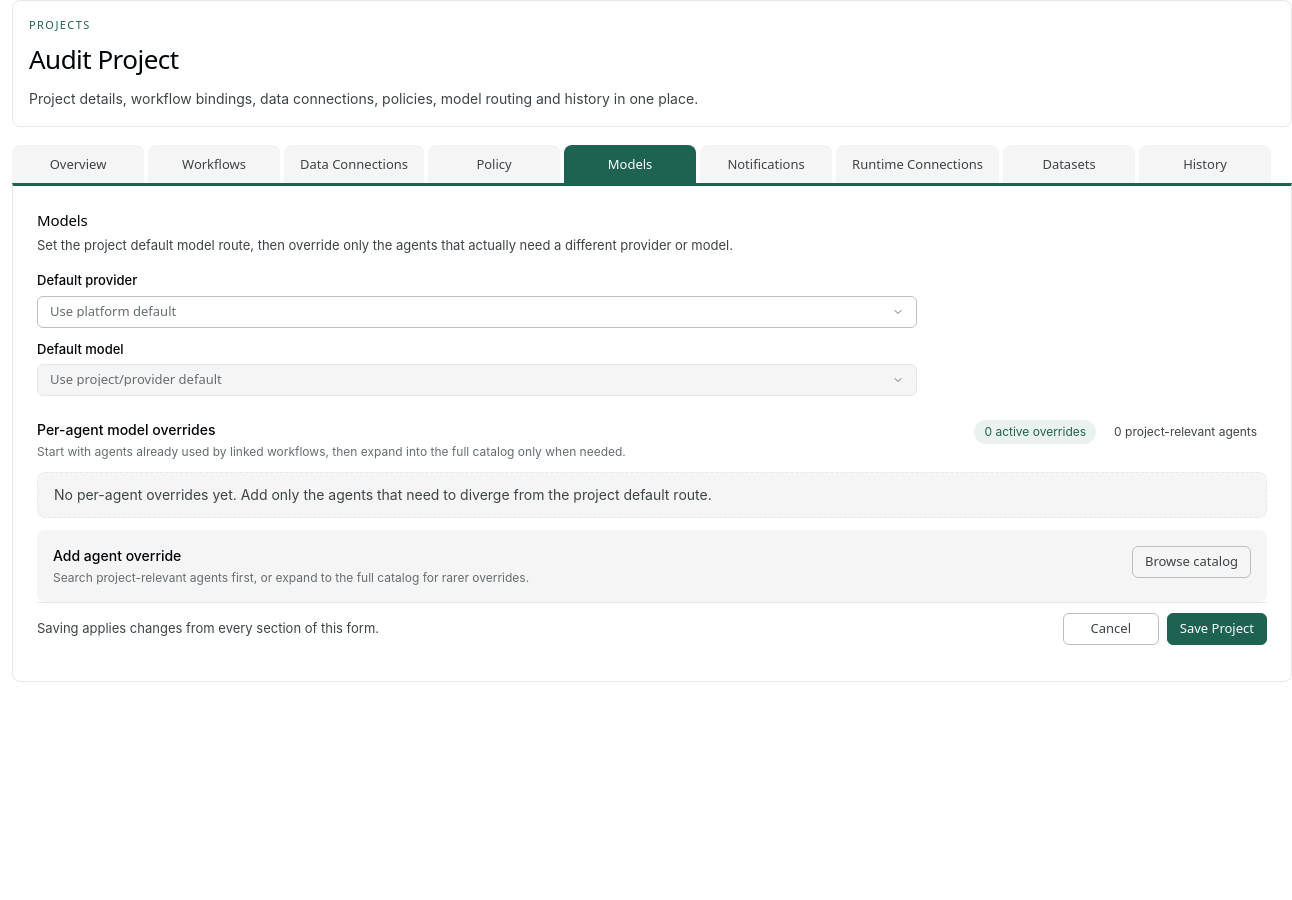
ProjectsDetailPage › renders friendly model labels while persisting exact model IDs
Step 1. Click the dropdown named "Default provider" → (113, 311), box [37,296,917,328]
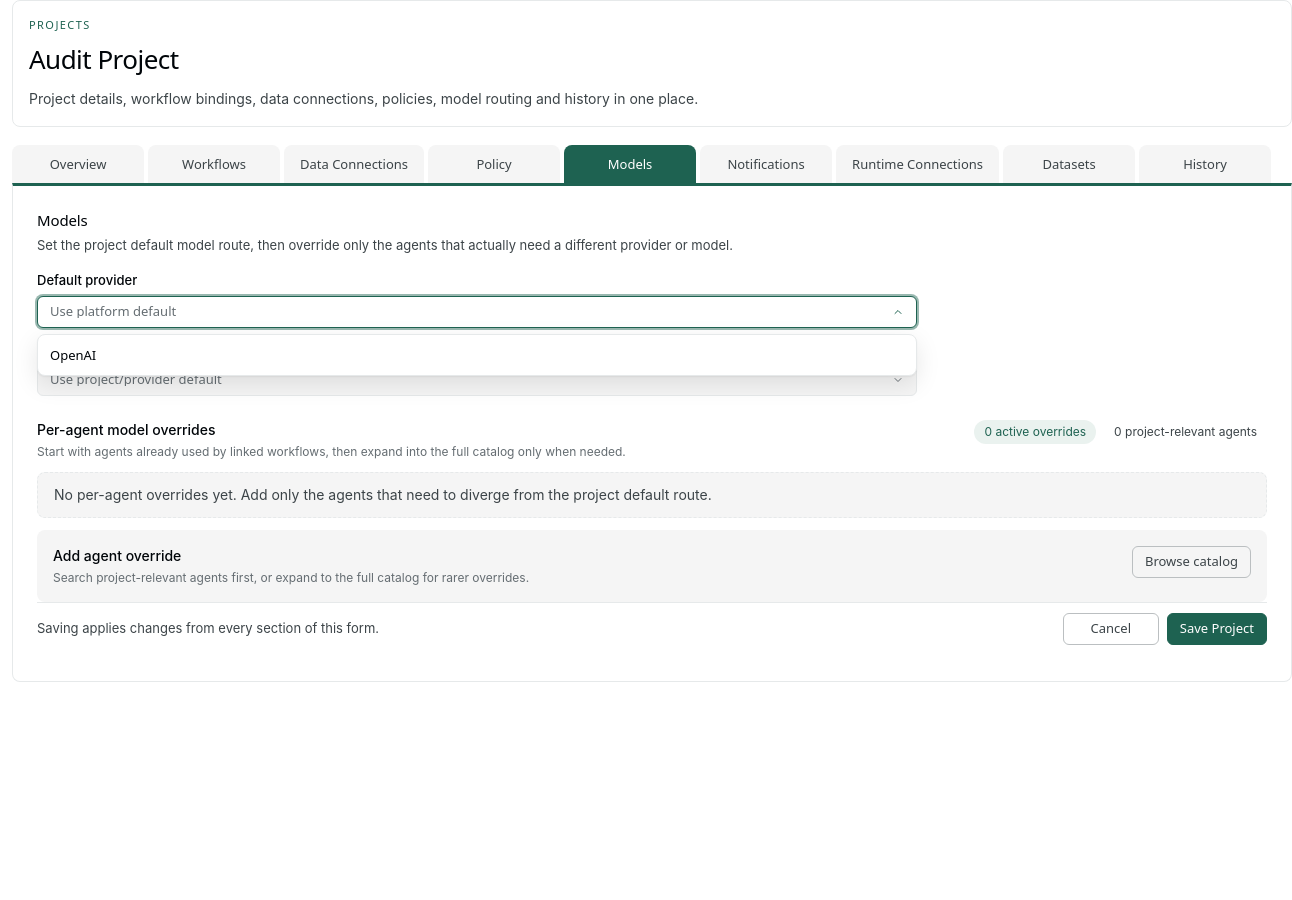
Step 2. Click the option "OpenAI" → (73, 355), box [42,339,912,371]
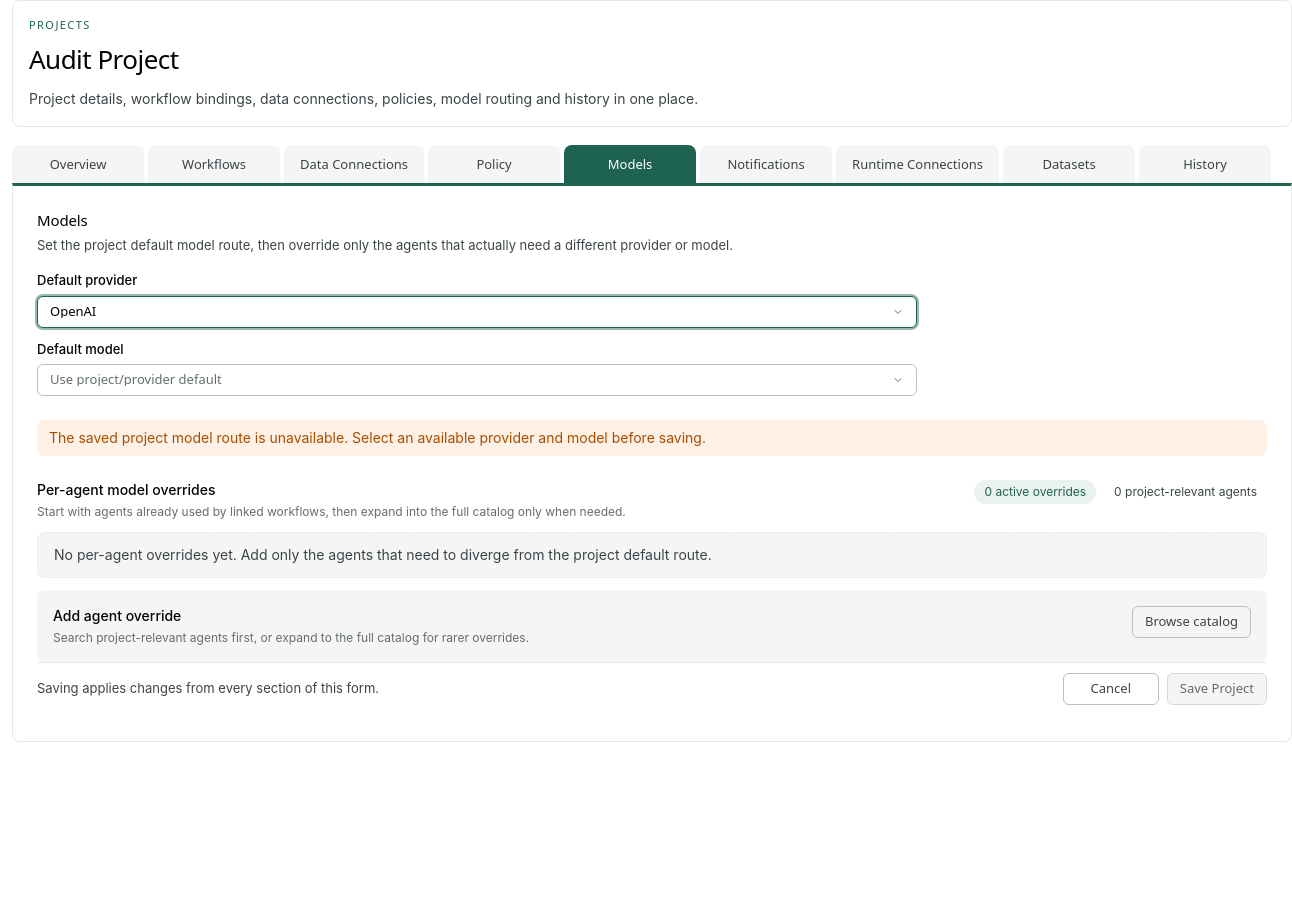
Step 3. Click the dropdown named "Default model" → (136, 379), box [37,364,917,396]
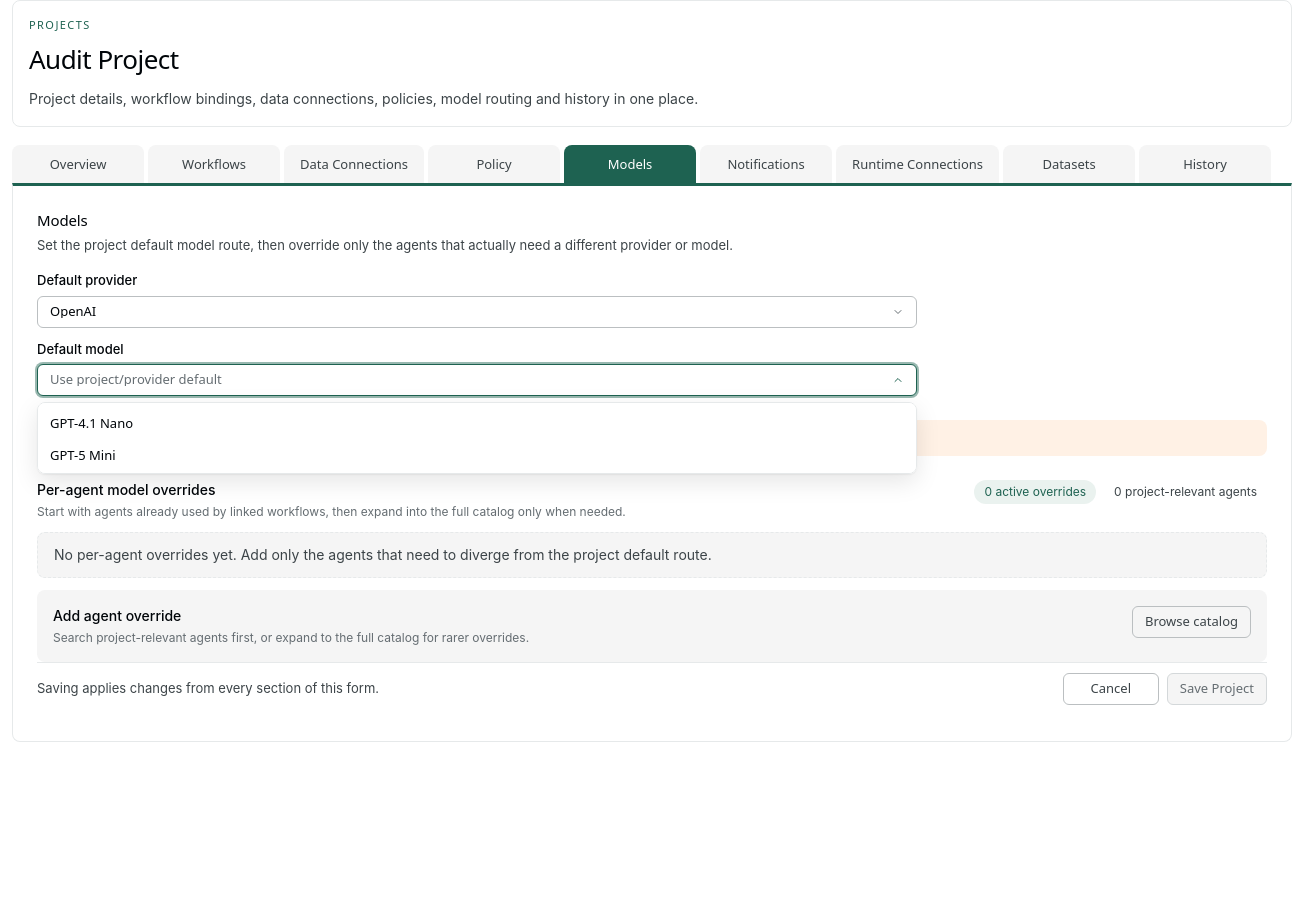
Check: the option "GPT-4.1 Nano" is shown
Step 4. Click the option "GPT-4.1 Nano" → (92, 423), box [42,407,912,439]
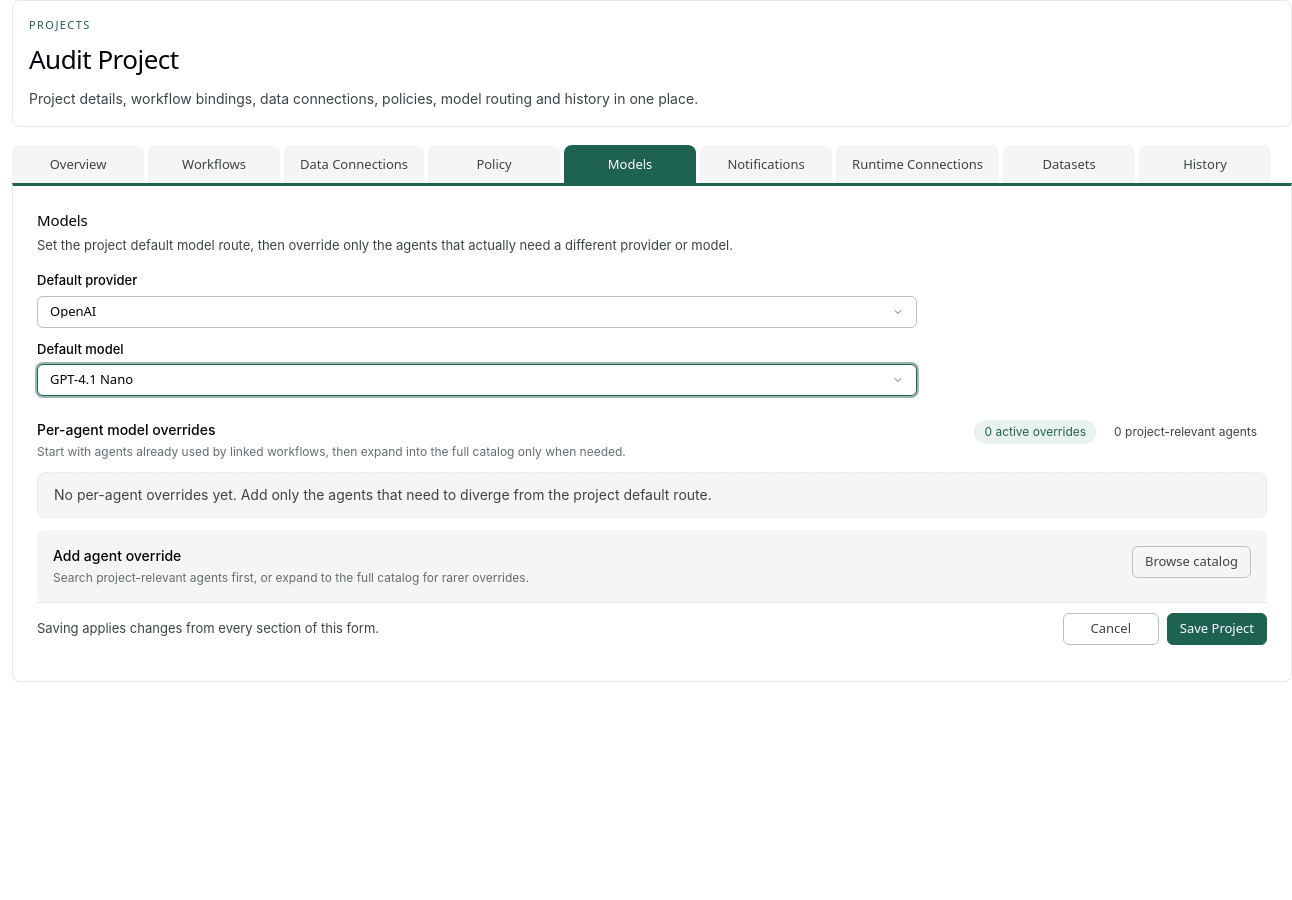
Check: the dropdown named "Default model" reads "GPT-4.1 Nano", box [37,364,917,396]
